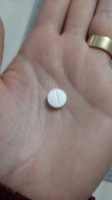Arveles: (46, 88, 69, 110)
